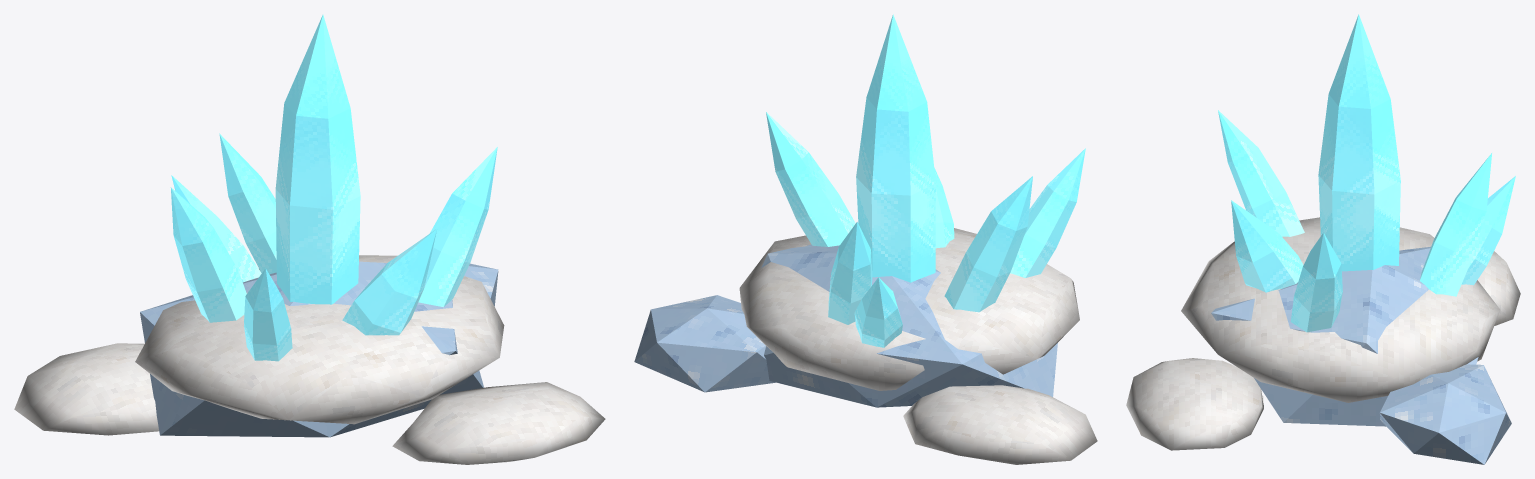
Rendered from glacier_crystals.glb.
3 renders of one model, left to right at view 1: azimuth 30°, elevation 25°; view 2: azimuth 150°, elevation 25°; view 3: azimuth 270°, elevation 25°, orthographic. The views are drawn at different scales.
Visible parts, largest first — view 1: Snow, Crystals, Foot; view 2: Crystals, Snow, Foot; view 3: Snow, Crystals, Foot.
Part boxes in pixels (x1,y1,x2,y2): Snow: (14, 255, 605, 464); Crystals: (170, 14, 497, 361); Foot: (140, 261, 498, 437); Crystals: (766, 14, 1085, 347); Snow: (739, 228, 1097, 464); Foot: (634, 244, 1057, 407); Snow: (1126, 217, 1520, 450); Crystals: (1218, 14, 1515, 332); Foot: (1211, 246, 1511, 464).
Bounding box in the file's own units: 2.49 × 1.92 × 1.94.
3 materials, 3 textured.
